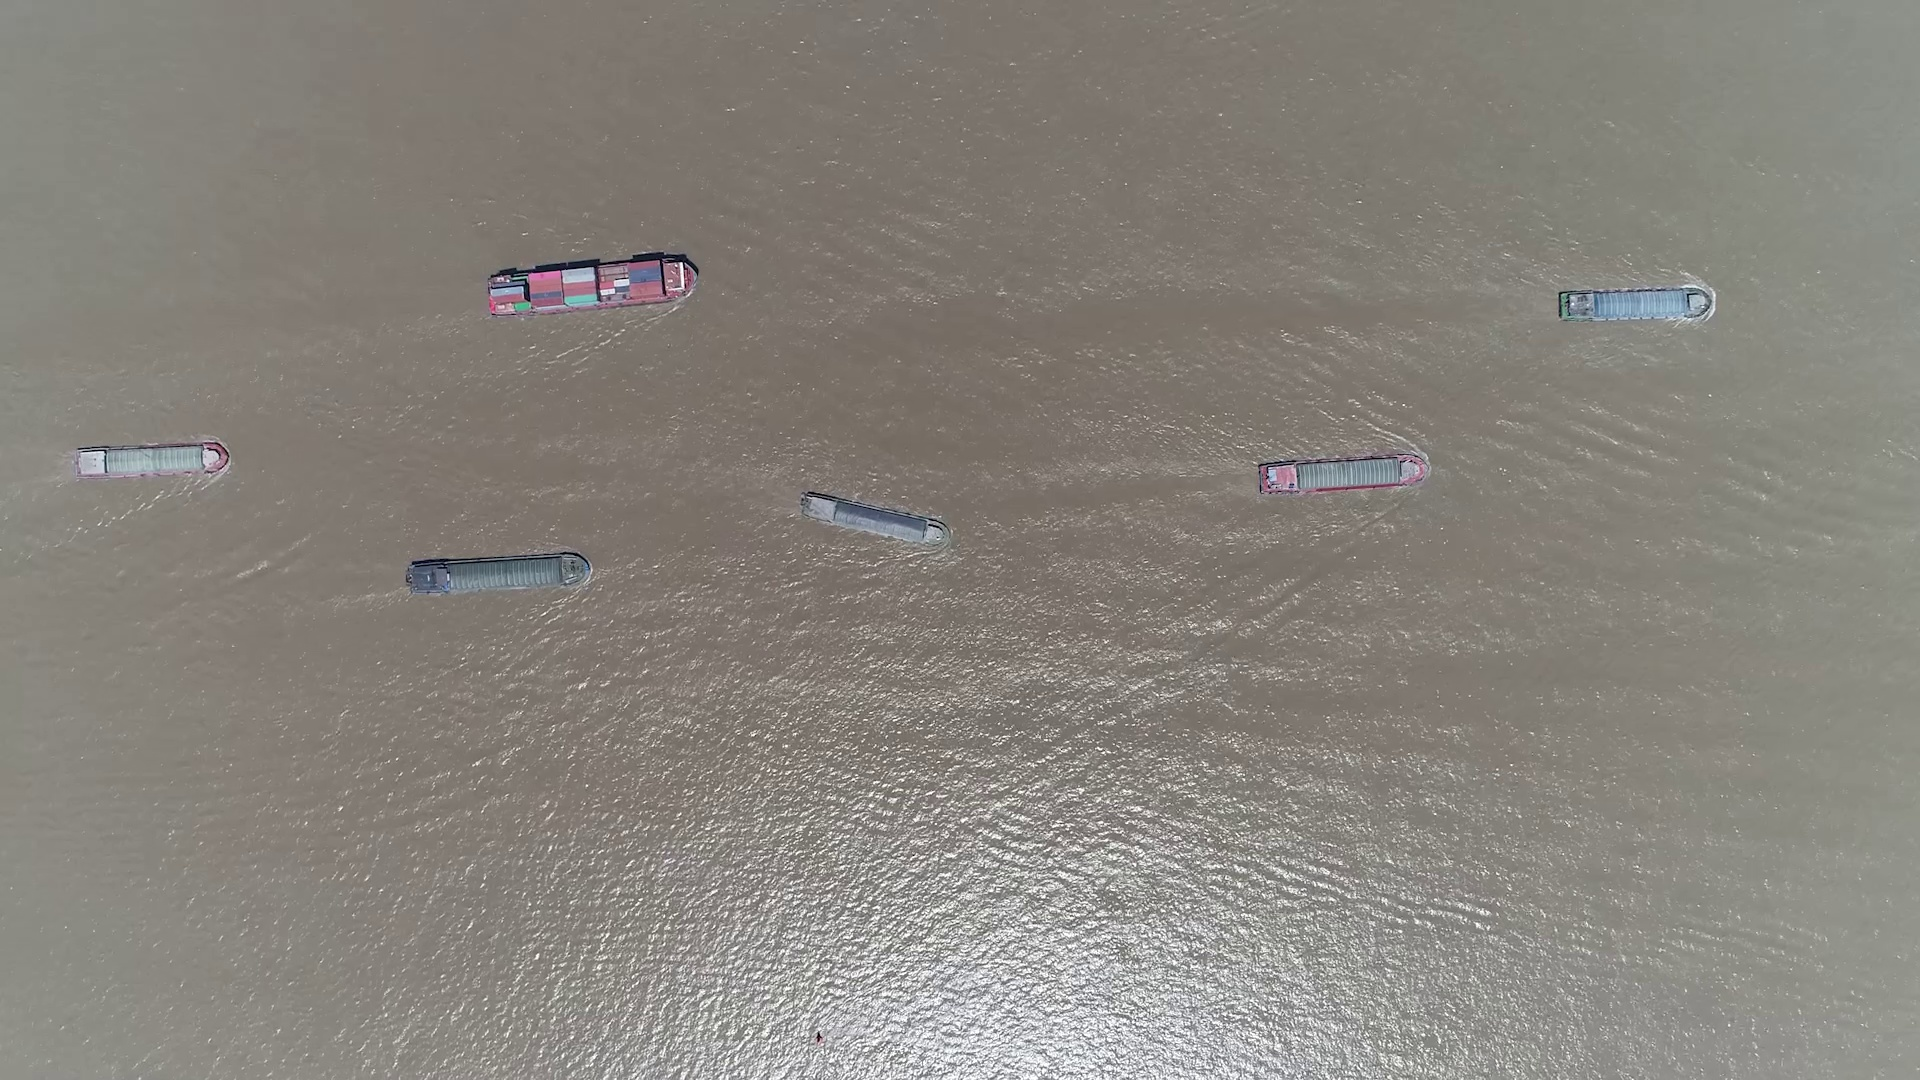ship: (487, 257, 699, 315), (796, 491, 949, 547), (407, 553, 591, 595), (1261, 454, 1429, 496), (74, 444, 229, 479), (1560, 287, 1713, 320)
